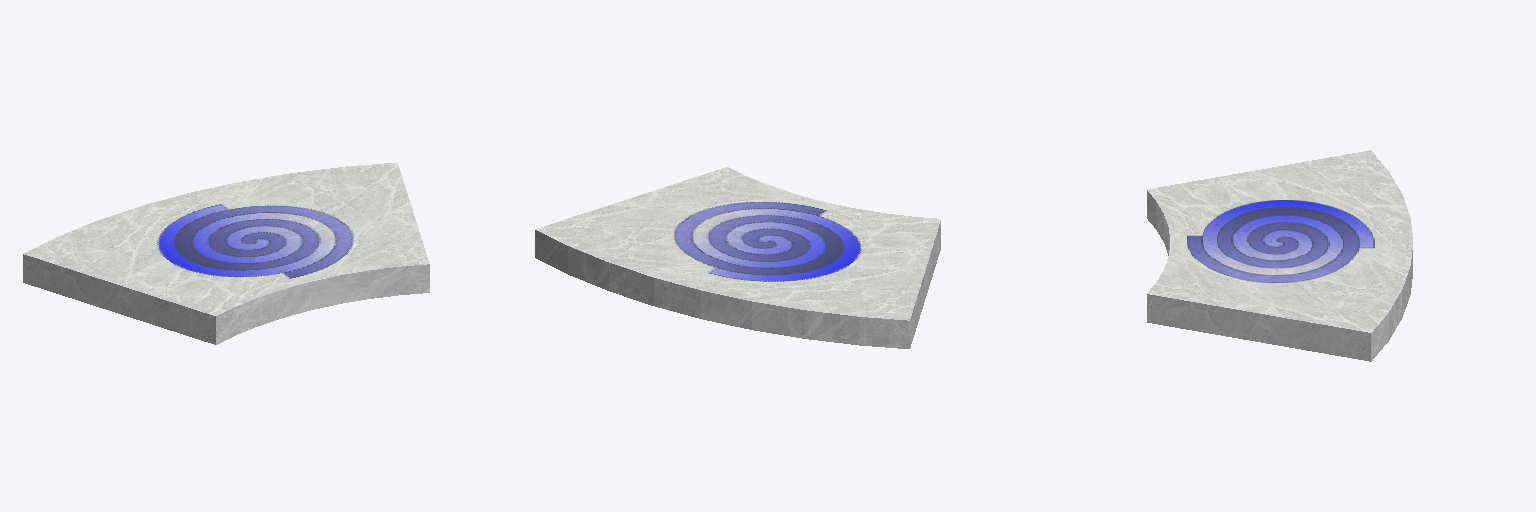
3 renders of one model, left to right at view 1: azimuth 30°, elevation 25°; view 2: azimuth 150°, elevation 25°; view 3: azimuth 270°, elevation 25°, orthographic.
Visible parts, largest first — view 1: Cylinder.012_Mesh, Cylinder.012_Mesh.008; view 2: Cylinder.012_Mesh, Cylinder.012_Mesh.008; view 3: Cylinder.012_Mesh, Cylinder.012_Mesh.008.
Part boxes in pixels (x1,y1,x2,y2): Cylinder.012_Mesh: (24,162,428,315); Cylinder.012_Mesh.008: (23,254,429,344); Cylinder.012_Mesh: (535,167,940,320); Cylinder.012_Mesh.008: (535,222,940,348); Cylinder.012_Mesh: (1147,150,1412,332); Cylinder.012_Mesh.008: (1147,191,1412,361).
Bounding box in the file's own units: 3.79 × 0.277 × 2.34.
2 materials, 2 textured.